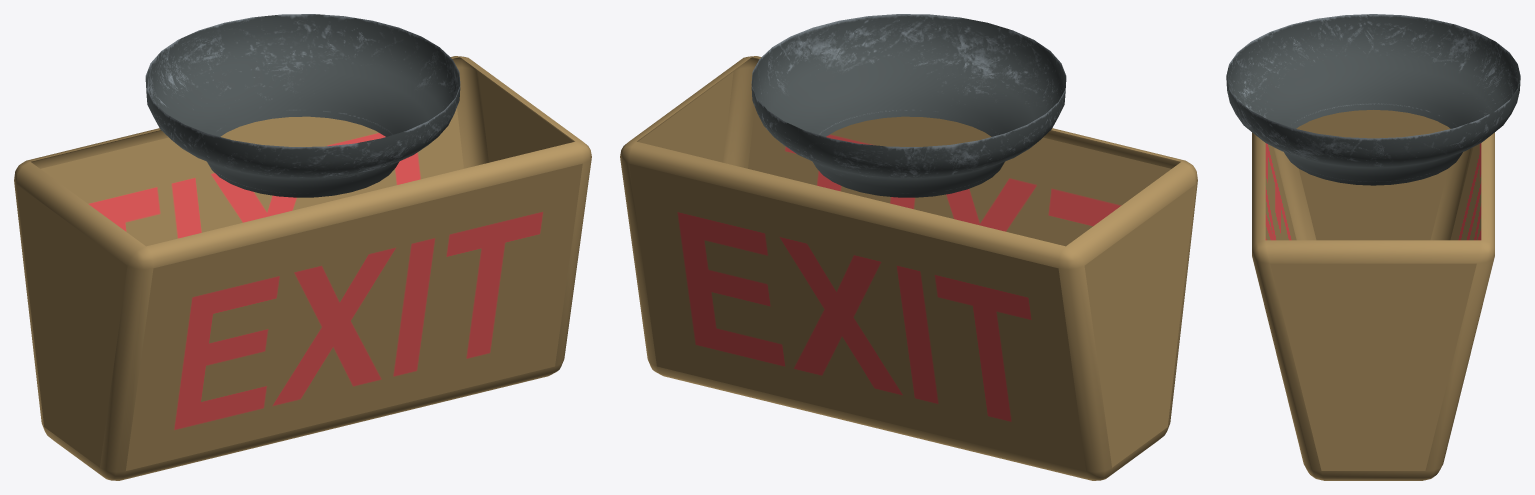
File: B1M1_ExitSign_GEO.fbx
3 views of the same model, side by side, from view 1: azimuth 30°, elevation 25°; view 2: azimuth 150°, elevation 25°; view 3: azimuth 270°, elevation 25° (orthographic). The views are drawn at different scales.
Parts seen in each view (by area): view 1: B1M1_ExitSign; view 2: B1M1_ExitSign; view 3: B1M1_ExitSign.
Part boxes in pixels (box(x1,y1,x2,y2)): B1M1_ExitSign: box(14, 14, 591, 480); B1M1_ExitSign: box(620, 14, 1197, 480); B1M1_ExitSign: box(1226, 14, 1520, 480).
Size of the model in its own units: 36.2 by 24.53 by 21.42.
